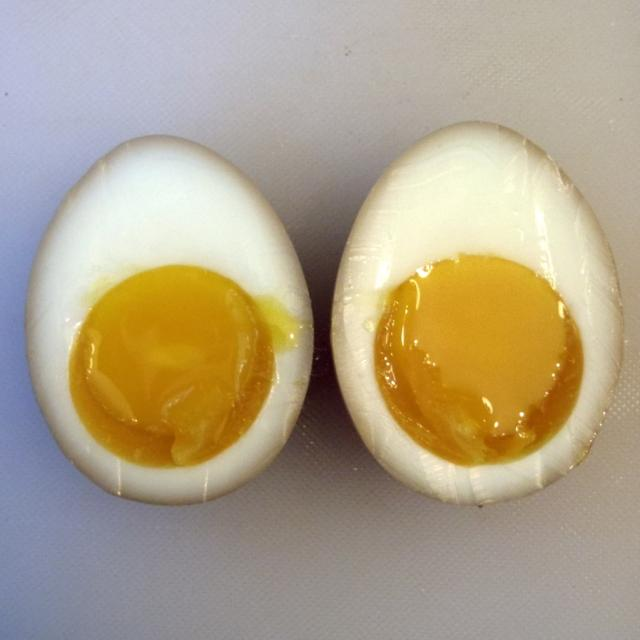Egg: (330, 117, 626, 506), (21, 133, 314, 505)
